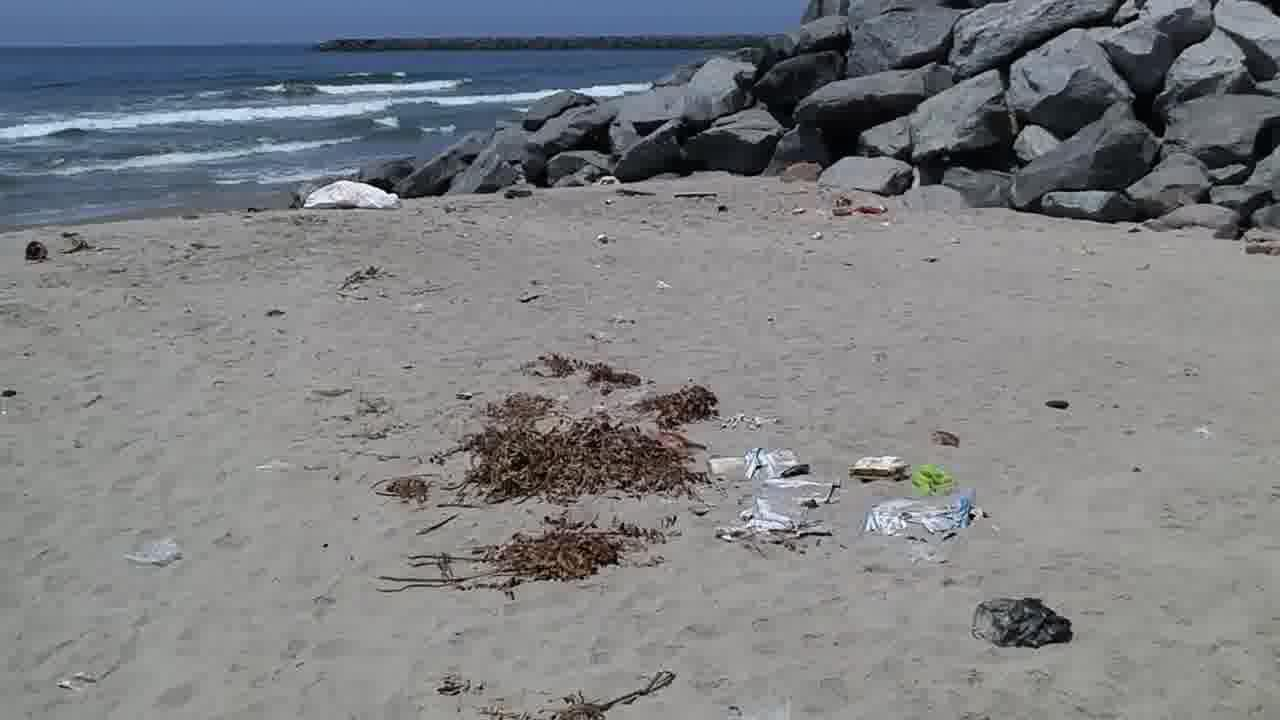obj: (364, 350, 718, 610), (706, 446, 842, 564), (856, 481, 1002, 572), (433, 672, 672, 716), (972, 595, 1082, 655), (296, 182, 404, 212), (114, 529, 182, 573), (846, 454, 908, 487), (56, 231, 122, 256), (910, 461, 955, 496), (22, 238, 49, 267), (930, 424, 964, 447)
sand/background: (1, 0, 1279, 263)
